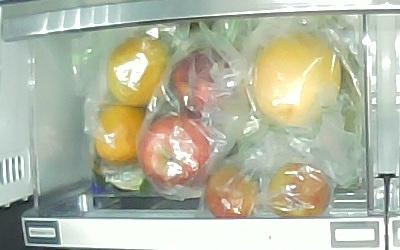apple_vinyl: (140, 115, 211, 189), (170, 51, 234, 115)
grapefruit_vinyl: (255, 32, 340, 127)
persimmon_vinyl: (107, 35, 174, 106), (95, 103, 146, 164)
prune_vinyl: (269, 163, 331, 218), (206, 165, 260, 219)
